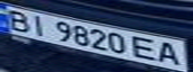0: (109, 30, 130, 56)
2: (87, 26, 109, 52)
8: (69, 22, 90, 47)
9: (48, 17, 75, 44)
A: (154, 40, 187, 68)
B: (3, 7, 33, 34)
E: (130, 34, 163, 61)
I: (24, 11, 54, 37)
